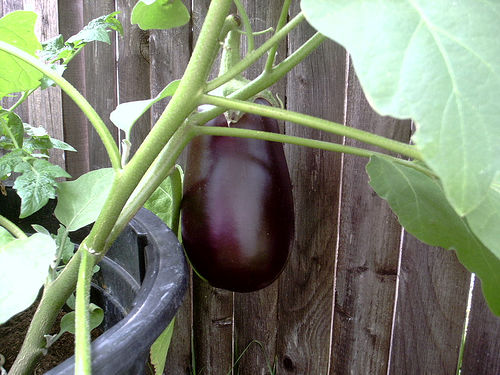eggplant: (172, 52, 302, 296)
